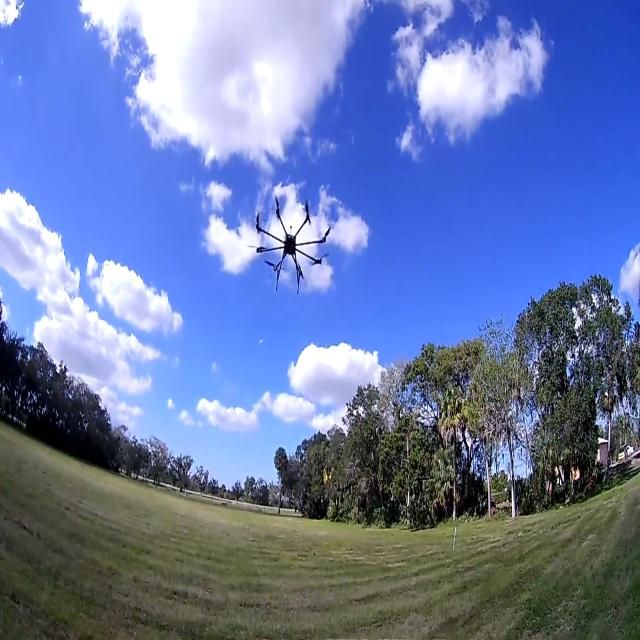drone: (244, 131, 332, 293)
